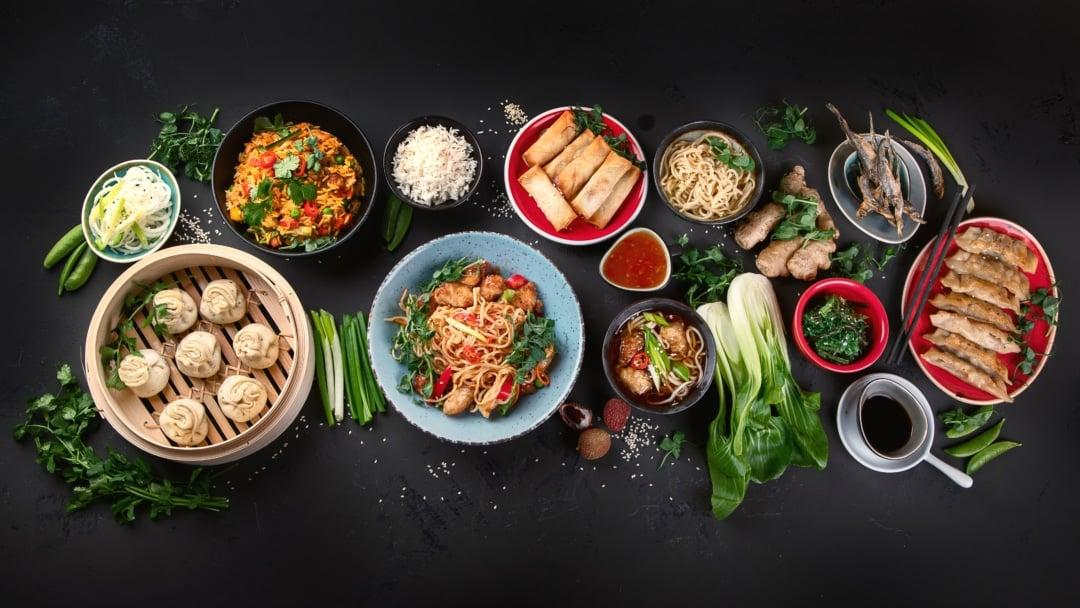Braised Crucian Carp: (80, 243, 310, 462), (363, 229, 581, 447), (900, 217, 1058, 406), (210, 100, 376, 259), (500, 106, 644, 246), (826, 104, 937, 236), (601, 297, 716, 415), (653, 119, 764, 227)
